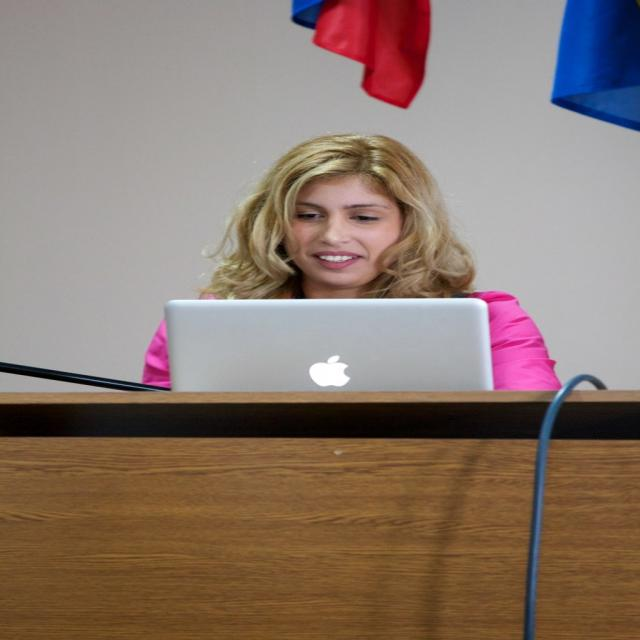desk: (2, 392, 637, 636)
laptop: (168, 297, 490, 394)
person: (137, 134, 556, 390)
